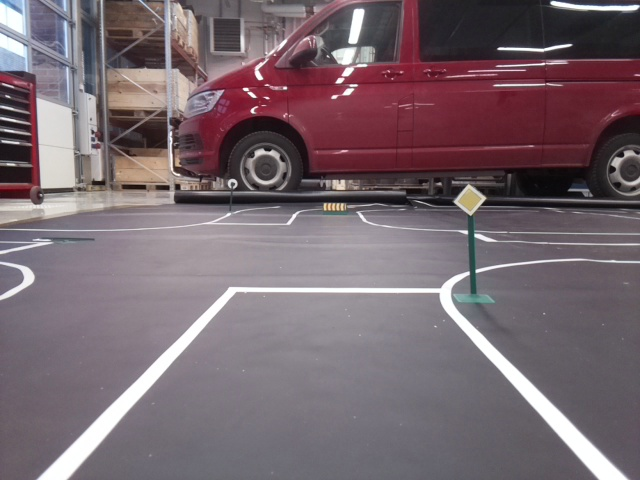Priority: (454, 184, 485, 213)
